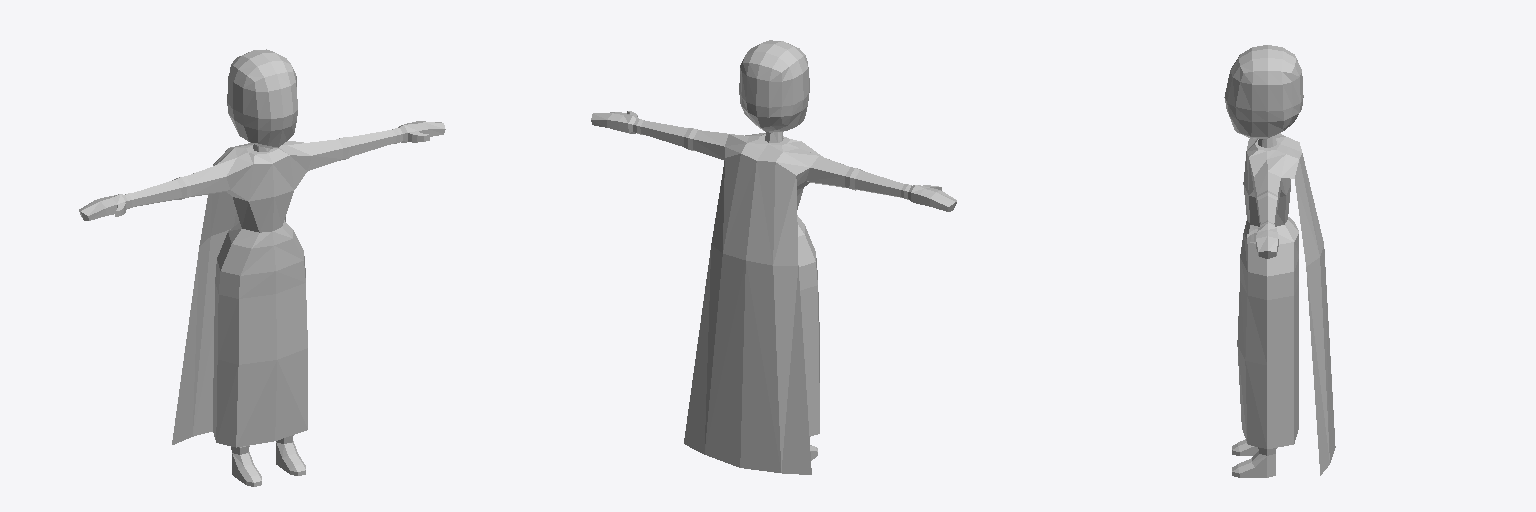
The model's file is Wood-Dummy-2.obj.
The picture shows the model from 3 angles: view 1: azimuth 30°, elevation 25°; view 2: azimuth 150°, elevation 25°; view 3: azimuth 270°, elevation 25°; orthographic projection.
Parts seen in each view (by area): view 1: Cylinder, Cube; view 2: Cylinder, Cube; view 3: Cylinder, Cube.
Part boxes in pixels (x1,y1,x2,y2): Cylinder: (79, 121, 445, 486); Cube: (227, 49, 297, 148); Cylinder: (591, 111, 956, 474); Cube: (739, 40, 809, 132); Cylinder: (1232, 133, 1335, 477); Cube: (1224, 45, 1303, 138).
Size of the model in its own units: 7.59 by 8.28 by 2.01.